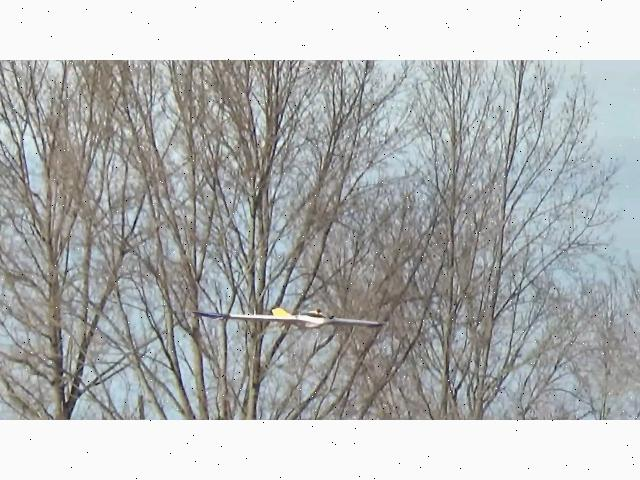Anti-Drone: (193, 308, 387, 328)
